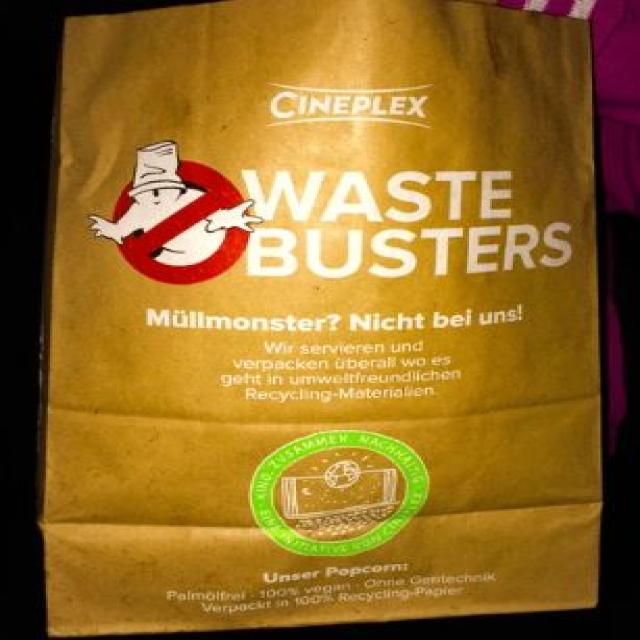electronic: (35, 0, 602, 638)
